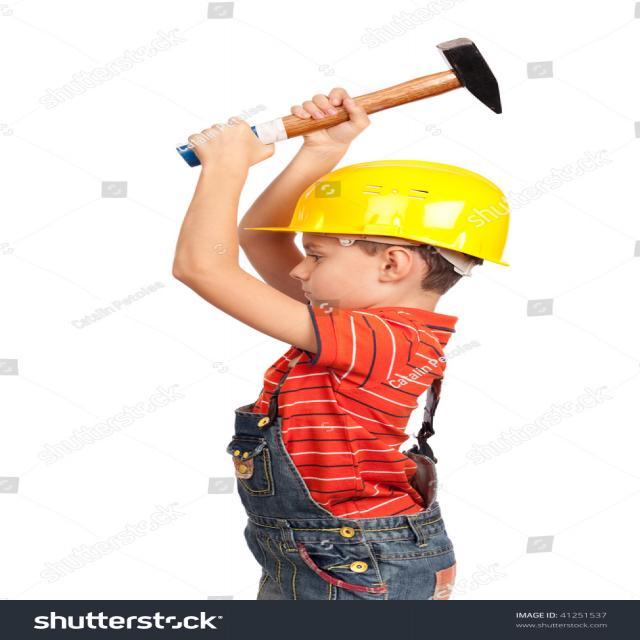hammer: (144, 29, 512, 174)
